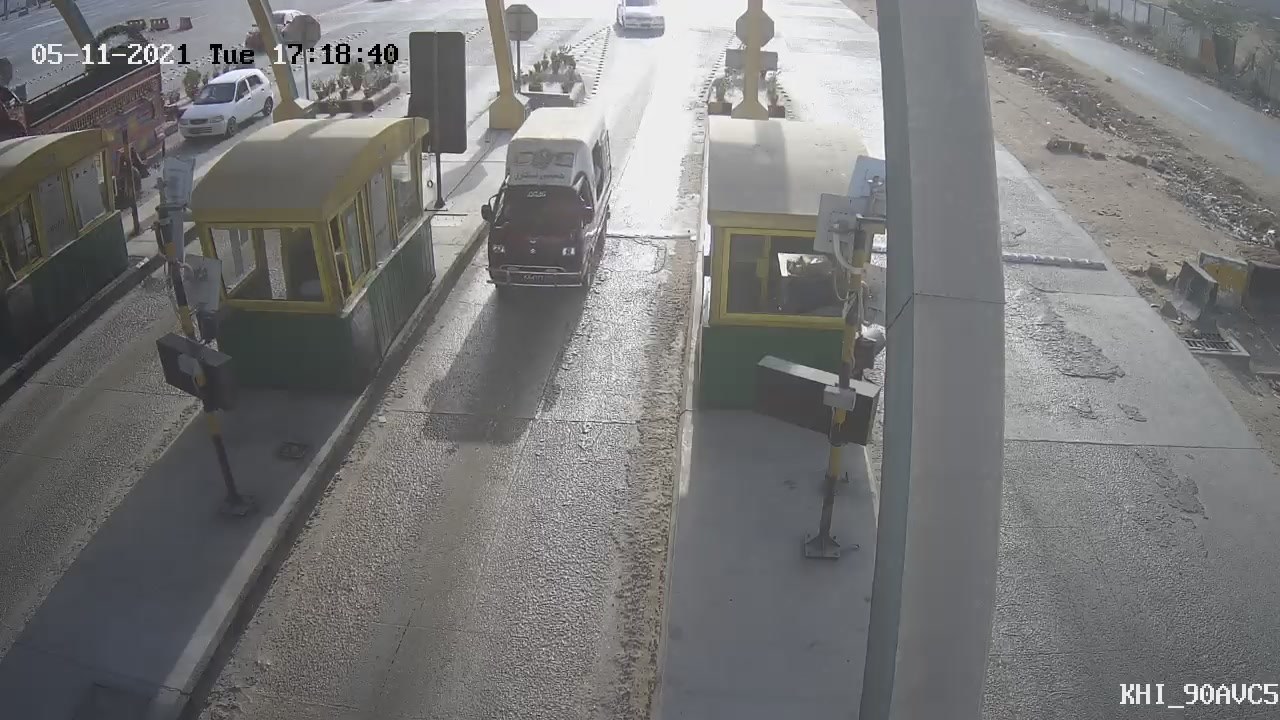F1: (457, 95, 635, 321)
